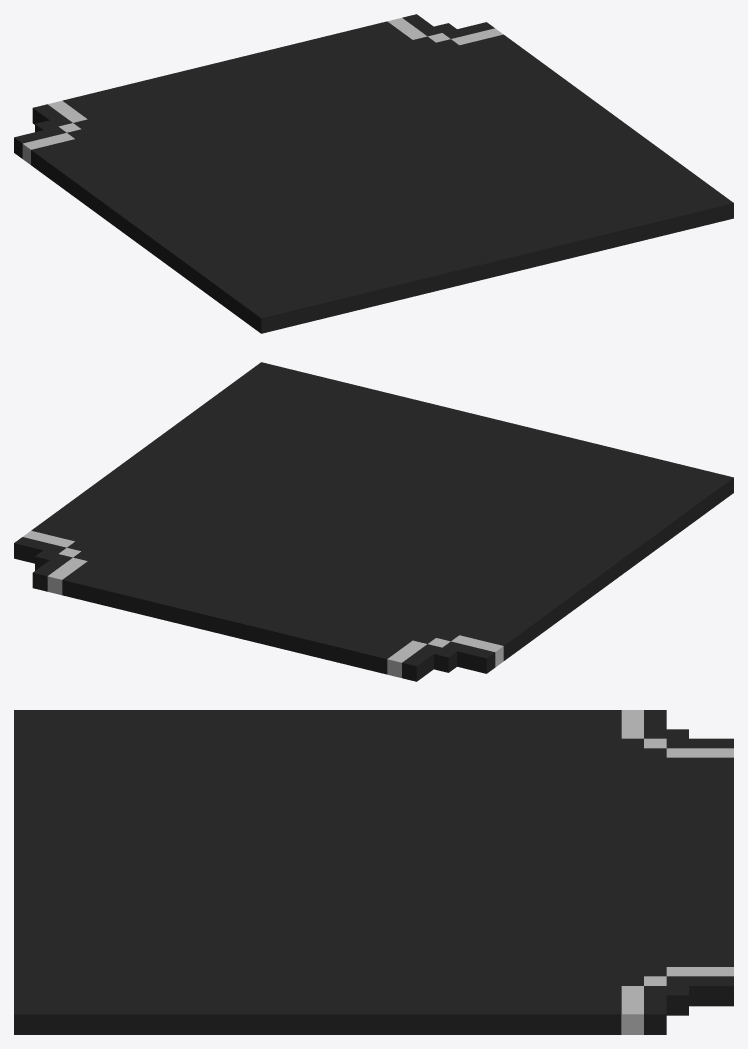
File: asphalt-rounded-connection.gltf
3 renders of one model, top to bottom at view 1: azimuth 30°, elevation 25°; view 2: azimuth 150°, elevation 25°; view 3: azimuth 270°, elevation 25°, orthographic. The views are drawn at different scales.
Parts seen in each view (by area): view 1: asphalt-rounded-connection_model; view 2: asphalt-rounded-connection_model; view 3: asphalt-rounded-connection_model.
Boxes of the visible parts, box(x1,y1,x2,y2) form: asphalt-rounded-connection_model: box(14, 14, 733, 333); asphalt-rounded-connection_model: box(14, 362, 733, 681); asphalt-rounded-connection_model: box(14, 710, 733, 1034).
Bounding box in the file's own units: 3.2 × 0.1 × 3.2.
1 material, 1 textured.
